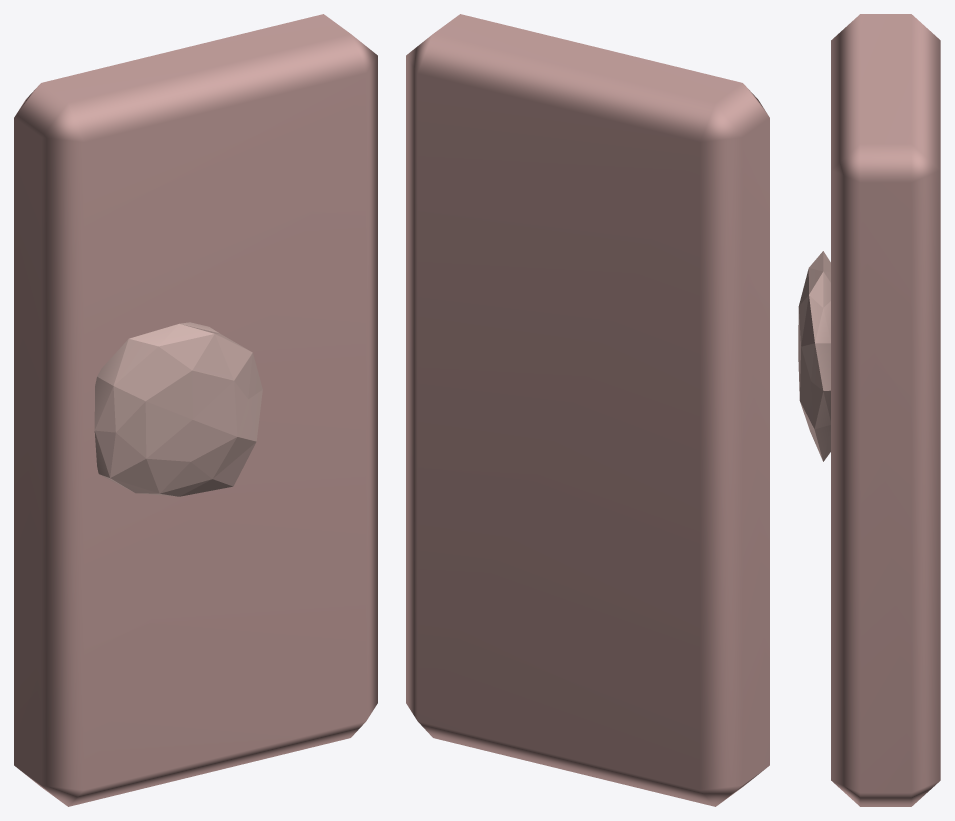
The model's file is swollen-cheek.glb.
3 views of the same model, side by side, from view 1: azimuth 30°, elevation 25°; view 2: azimuth 150°, elevation 25°; view 3: azimuth 270°, elevation 25° (orthographic). The views are drawn at different scales.
Visible parts, largest first — view 1: body; view 2: body; view 3: body.
Boxes of the visible parts, x1=… form: body: x1=14, y1=14, x2=377, y2=806; body: x1=406, y1=14, x2=769, y2=806; body: x1=798, y1=14, x2=940, y2=806.
Bounding box in the file's own units: 1 × 2 × 0.3899.
